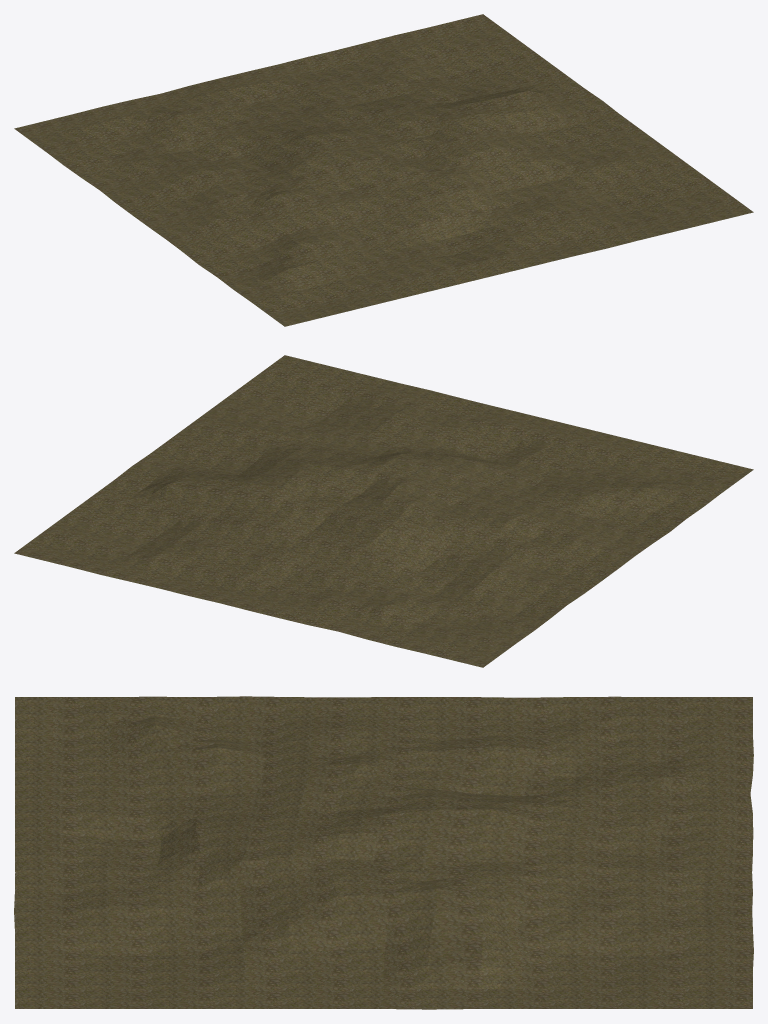
File: cave_Ceiling_Giant.fbx
The picture shows the model from 3 angles, top to bottom: view 1: azimuth 30°, elevation 25°; view 2: azimuth 150°, elevation 25°; view 3: azimuth 270°, elevation 25°; orthographic projection. The views are drawn at different scales.
Visible parts, largest first — view 1: cave_Ceiling_Giant; view 2: cave_Ceiling_Giant; view 3: cave_Ceiling_Giant.
Part boxes in pixels (<box>): cave_Ceiling_Giant: <box>14,14,753,326</box>; cave_Ceiling_Giant: <box>14,355,753,667</box>; cave_Ceiling_Giant: <box>14,696,753,1009</box>.
Bounding box in the file's own units: 80.31 × 3.21 × 80.2.
